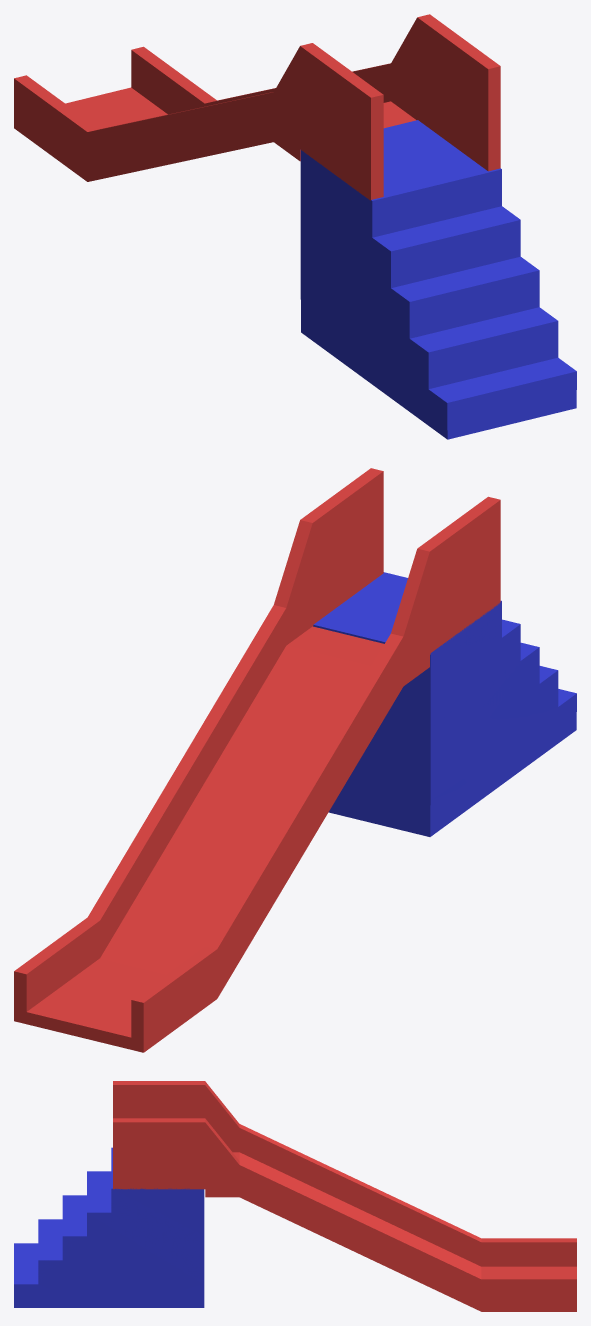
File: slider.fbx
The picture shows the model from 3 angles, top to bottom: view 1: azimuth 30°, elevation 25°; view 2: azimuth 150°, elevation 25°; view 3: azimuth 270°, elevation 25°; orthographic projection. The views are drawn at different scales.
Parts seen in each view (by area): view 1: Cube; view 2: Cube; view 3: Cube.
Part boxes in pixels (left/top/right/bottom): Cube: left=14, top=14, right=576, bottom=439; Cube: left=14, top=468, right=576, bottom=1052; Cube: left=14, top=1081, right=576, bottom=1311.
Size of the model in its own units: 200 by 430 by 1157.
